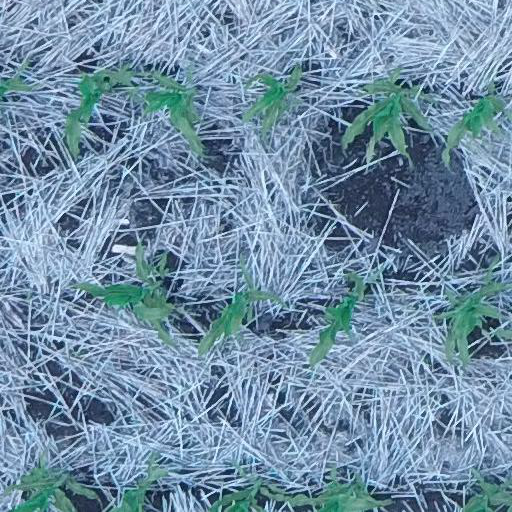planta: (68, 240, 178, 349), (194, 251, 282, 358), (339, 78, 439, 163), (59, 61, 139, 160), (136, 67, 207, 160), (305, 268, 369, 369), (238, 62, 304, 147)
